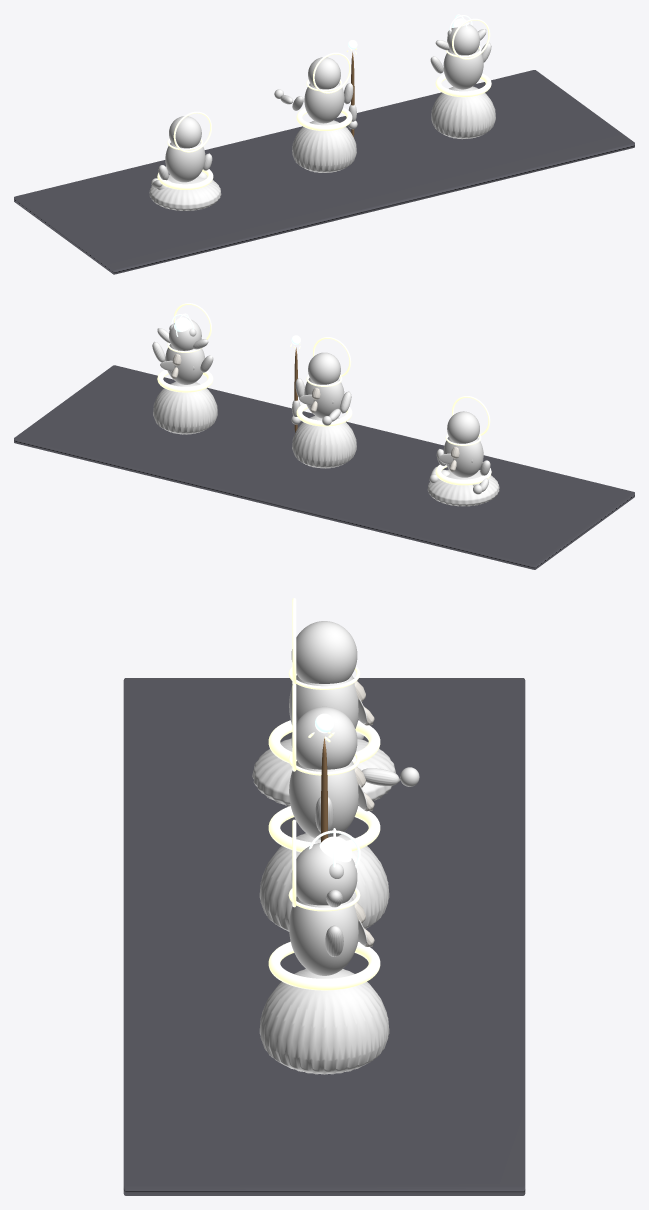
The model's file is sage_r2_v3.glb.
3 renders of one model, top to bottom at view 1: azimuth 30°, elevation 25°; view 2: azimuth 150°, elevation 25°; view 3: azimuth 270°, elevation 25°, orthographic. The views are drawn at different scales.
Parts seen in each view (by area): view 1: r2_floor, robe.001, robe, robe_skirt, body.002, body, body.001, hood.001, hood, hood.002, belt.002, belt.001 (+1 smaller); view 2: r2_floor, robe.001, robe, robe_skirt, body, body.002, body.001, hood, hood.001, hood.002, belt.002, belt.001 (+1 smaller); view 3: r2_floor, robe.001, robe, body.002, body.001, hood, hood.001, robe_skirt, hood.002, belt.002, body, belt.001 (+1 smaller).
Boxes of the visible parts, x1,y1,x2,y2 form: r2_floor: [14, 70, 634, 274]; robe.001: [431, 86, 495, 139]; robe: [292, 120, 356, 172]; robe_skirt: [149, 174, 221, 210]; body.002: [443, 48, 483, 89]; body: [165, 141, 205, 182]; body.001: [304, 82, 344, 123]; hood.001: [308, 57, 340, 89]; hood: [169, 116, 201, 148]; hood.002: [447, 24, 479, 55]; belt.002: [435, 73, 491, 97]; belt.001: [296, 107, 352, 130]; r2_floor: [14, 365, 634, 569]; robe.001: [153, 382, 217, 434]; robe: [292, 416, 356, 468]; robe_skirt: [427, 469, 499, 506]; body: [443, 437, 483, 477]; body.002: [165, 344, 204, 384]; body.001: [304, 378, 344, 418]; hood: [447, 411, 479, 443]; hood.001: [308, 352, 340, 384]; hood.002: [169, 319, 201, 350]; belt.002: [157, 370, 213, 392]; belt.001: [296, 404, 352, 426]; r2_floor: [123, 678, 525, 1195]; robe.001: [259, 969, 389, 1074]; robe: [259, 833, 389, 931]; body.002: [289, 896, 358, 975]; body.001: [289, 761, 358, 839]; hood: [291, 621, 357, 683]; hood.001: [291, 706, 357, 769]; robe_skirt: [252, 738, 396, 806]; hood.002: [291, 842, 357, 905]; belt.002: [268, 941, 380, 990]; body: [289, 675, 358, 728]; belt.001: [268, 806, 380, 852].
Size of the model in its own units: 12 by 2.8 by 4.
